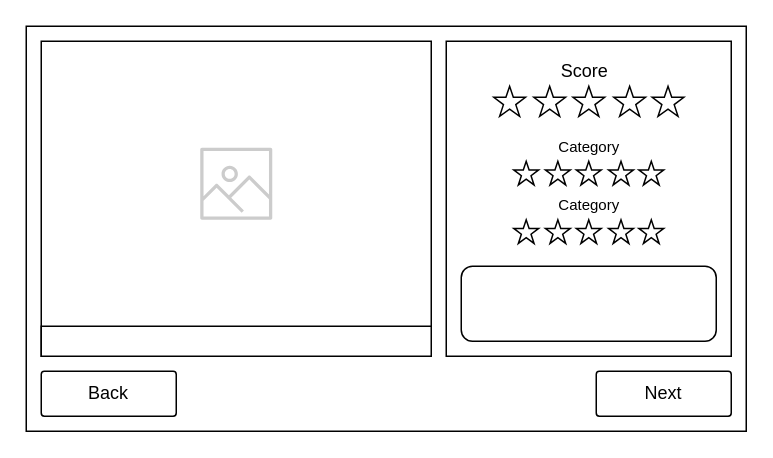
Some shapes in this 773 by 458 pixel diagram are drawn without their labels. The shapes that lost their labels are listed below. From the top down, each one's centre as x and y in pixels, then its label:
At point (588, 303): "Comments".
At point (235, 340): "Age Date Location".
